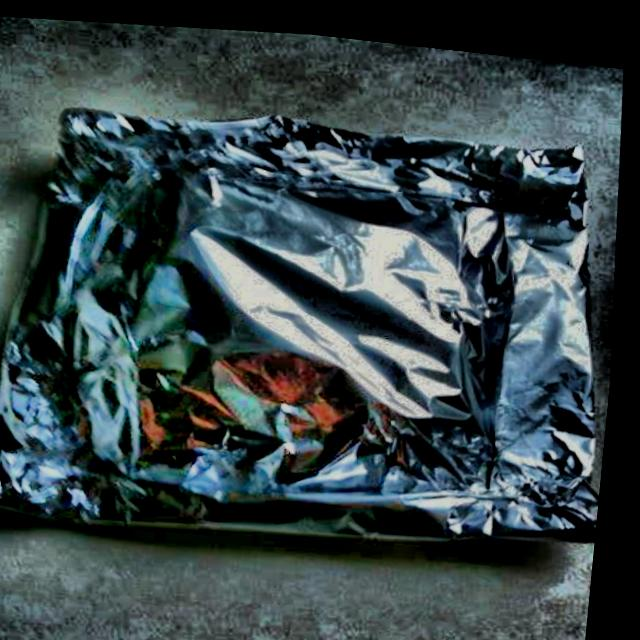Foil: (0, 58, 636, 579)
